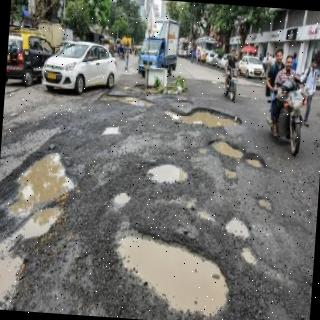pothole: (119, 236, 228, 315), (0, 206, 61, 296), (10, 153, 73, 213), (167, 106, 240, 127), (210, 142, 266, 168), (146, 164, 187, 183), (225, 219, 249, 238)
